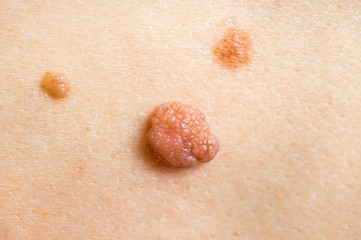melanoma: (119, 84, 230, 175)
